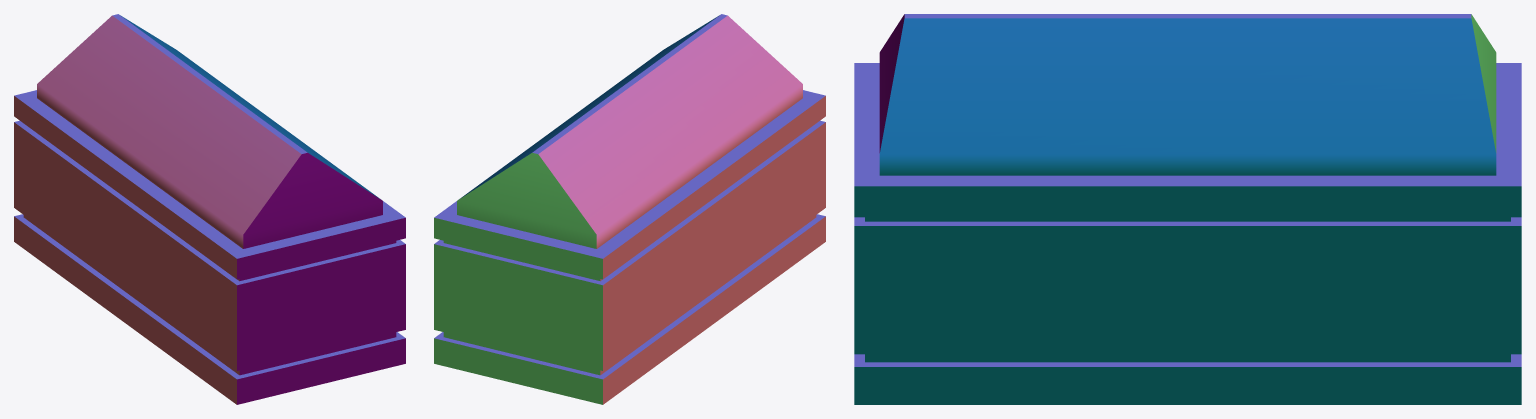
The model's file is grave3 (1).fbx.
3 views of the same model, side by side, from view 1: azimuth 30°, elevation 25°; view 2: azimuth 150°, elevation 25°; view 3: azimuth 270°, elevation 25° (orthographic). The views are drawn at different scales.
Visible parts, largest first — view 1: pCube12; view 2: pCube12; view 3: pCube12.
Part boxes in pixels (x1,y1,x2,y2): pCube12: (14,14,405,404); pCube12: (434,14,825,404); pCube12: (854,14,1521,404).
Bounding box in the file's own units: 1.16 × 1.43 × 2.64.
